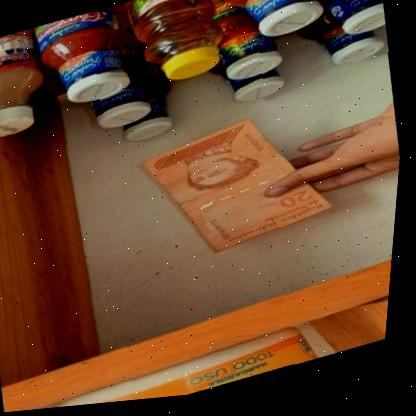twenty-front-vef: (135, 102, 347, 276)
